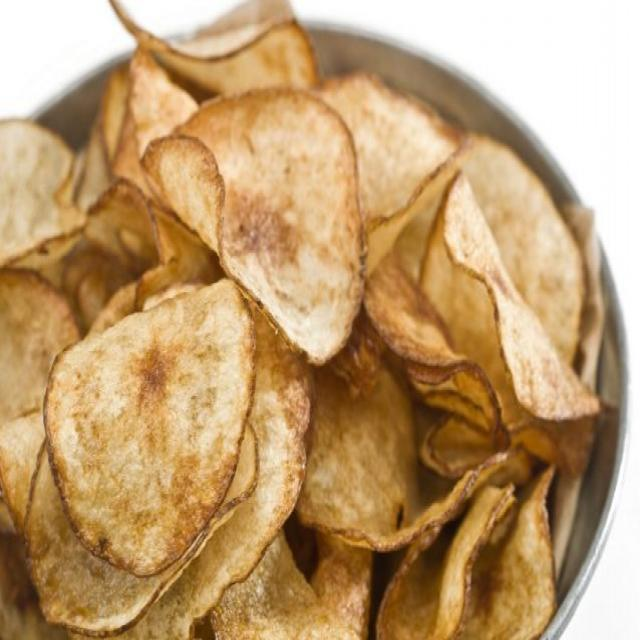Chips packaged: (17, 102, 537, 634)
